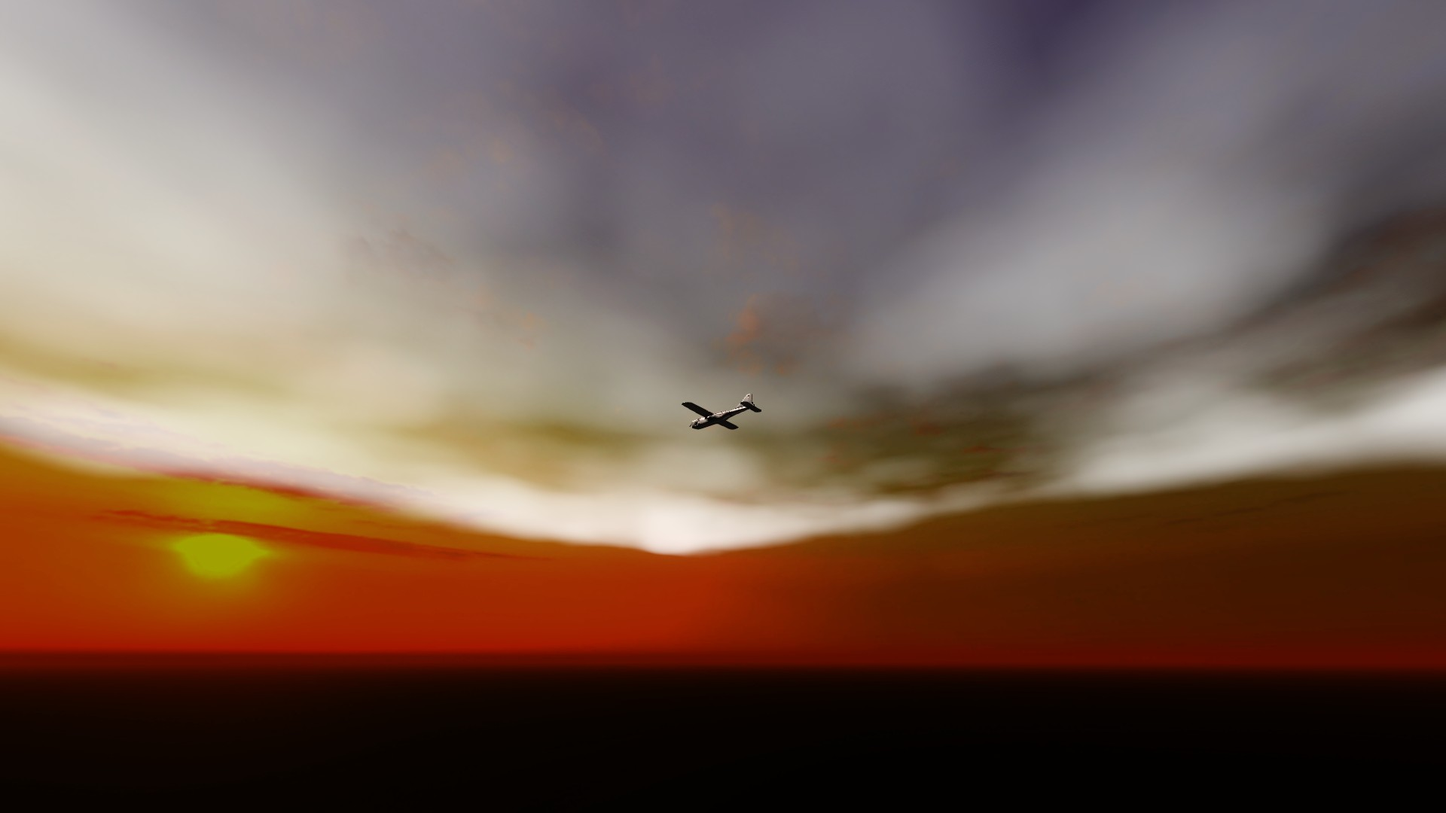drone_other: (682, 394, 761, 430)
